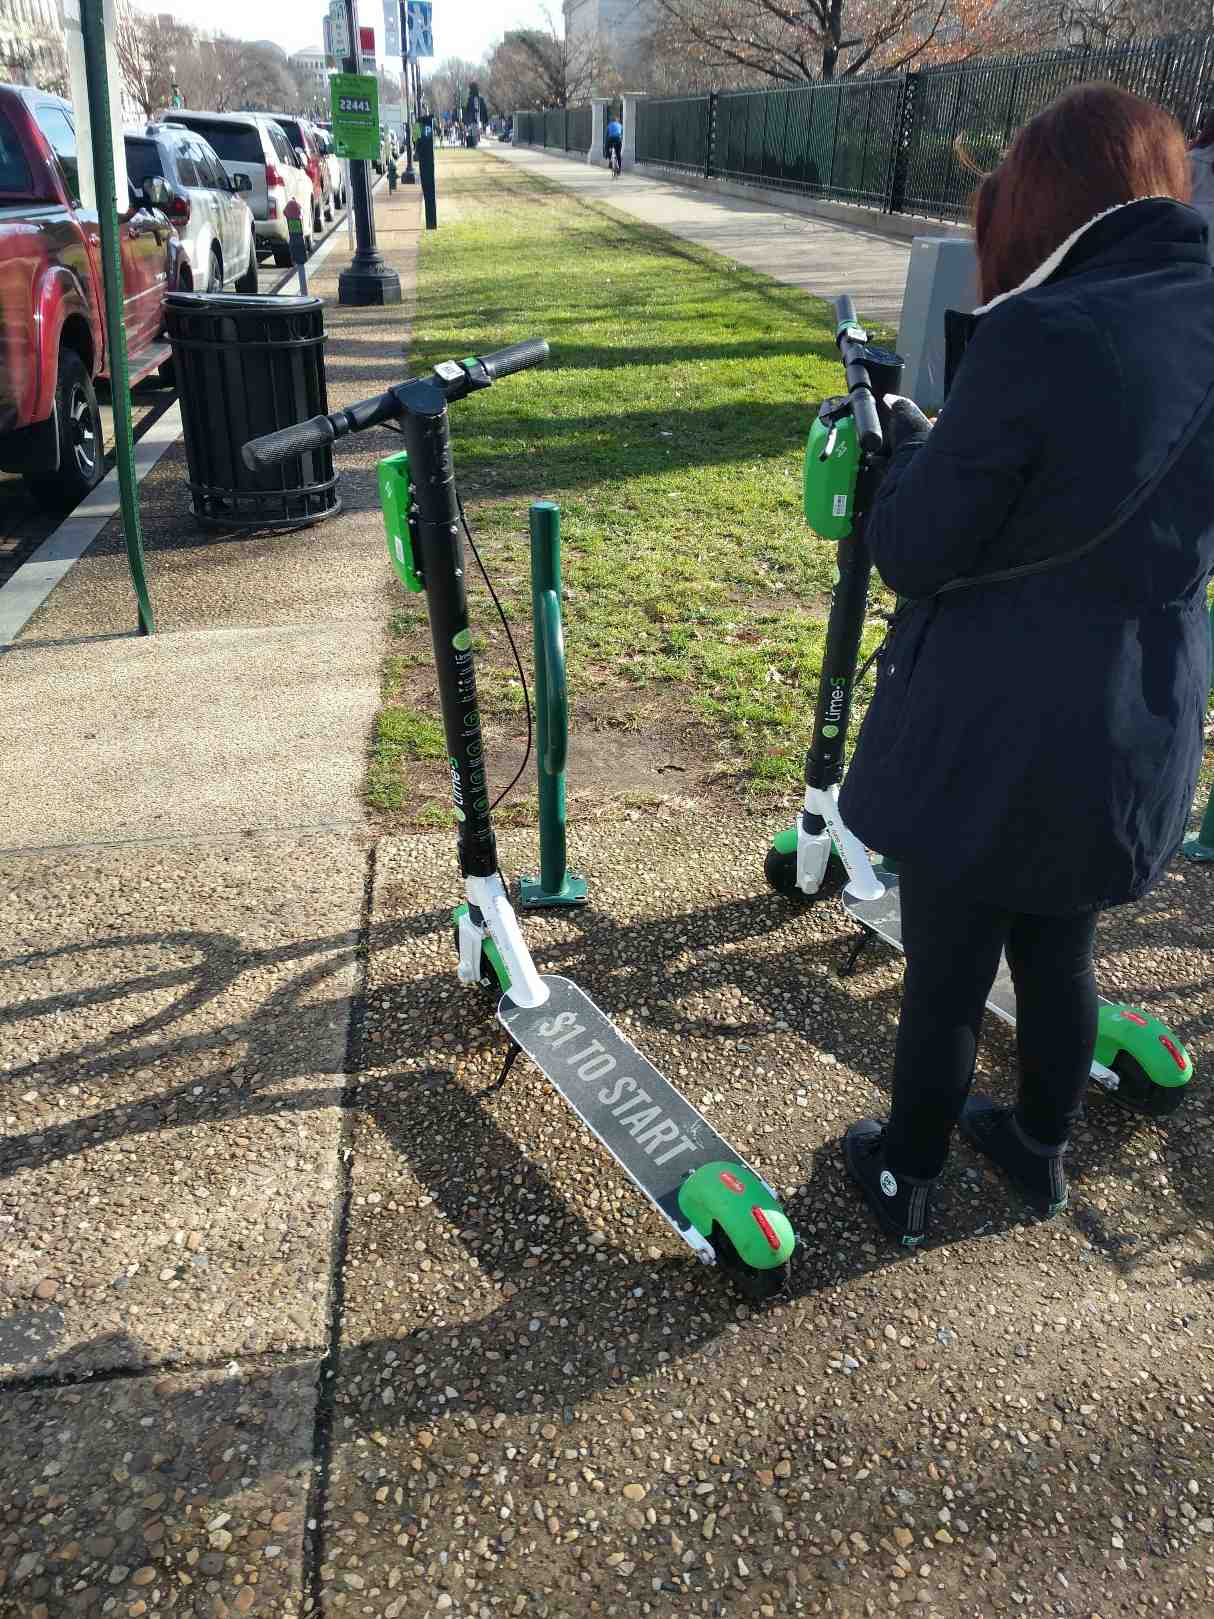scooter: (332, 229, 1214, 843), (293, 690, 1214, 1192)
